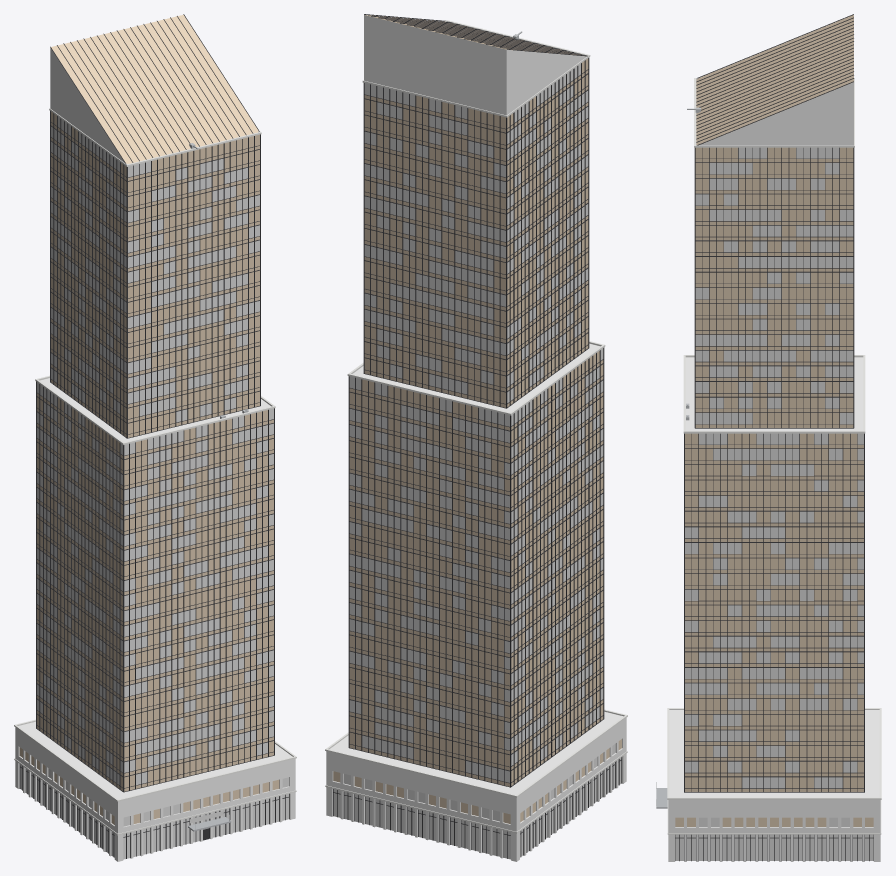
The model's file is tower_hero640.glb.
3 views of the same model, side by side, from view 1: azimuth 30°, elevation 25°; view 2: azimuth 150°, elevation 25°; view 3: azimuth 270°, elevation 25° (orthographic). The views are drawn at different scales.
Visible parts, largest first — view 1: tower_hero640_Glass, tower_hero640_Frames, tower_hero640_WindowsLit, tower_hero640_Walls2, tower_hero640_Roof, tower_hero640_Trim; view 2: tower_hero640_Glass, tower_hero640_Frames, tower_hero640_WindowsLit, tower_hero640_Walls2, tower_hero640_Trim, tower_hero640_Roof; view 3: tower_hero640_Glass, tower_hero640_Frames, tower_hero640_WindowsLit, tower_hero640_Walls2, tower_hero640_Roof, tower_hero640_Trim.
Boxes of the visible parts, bbox=[...] form: tower_hero640_Glass: bbox=[19, 15, 279, 824]; tower_hero640_Frames: bbox=[19, 14, 289, 858]; tower_hero640_WindowsLit: bbox=[20, 117, 289, 859]; tower_hero640_Walls2: bbox=[15, 48, 295, 861]; tower_hero640_Roof: bbox=[18, 378, 292, 799]; tower_hero640_Trim: bbox=[14, 108, 296, 835]; tower_hero640_Glass: bbox=[333, 15, 621, 823]; tower_hero640_Frames: bbox=[333, 14, 621, 858]; tower_hero640_WindowsLit: bbox=[333, 64, 621, 859]; tower_hero640_Walls2: bbox=[326, 15, 626, 861]; tower_hero640_Trim: bbox=[325, 20, 627, 833]; tower_hero640_Roof: bbox=[329, 343, 623, 794]; tower_hero640_Glass: bbox=[675, 15, 873, 826]; tower_hero640_Frames: bbox=[675, 14, 873, 861]; tower_hero640_WindowsLit: bbox=[675, 147, 873, 860]; tower_hero640_Walls2: bbox=[668, 82, 880, 861]; tower_hero640_Roof: bbox=[669, 357, 879, 797]; tower_hero640_Trim: bbox=[667, 78, 881, 834].
Size of the model in its own units: 161 by 640 by 170.
